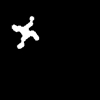single_crochet: (12, 17, 38, 48)
